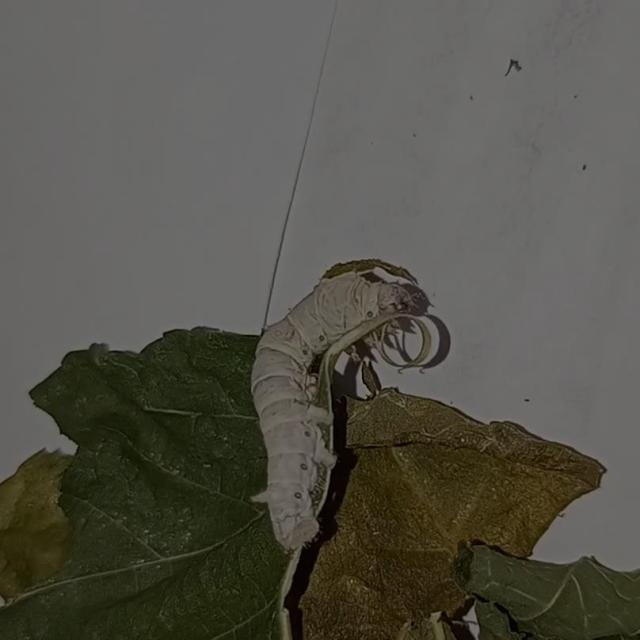Healthy: (234, 244, 426, 549)
